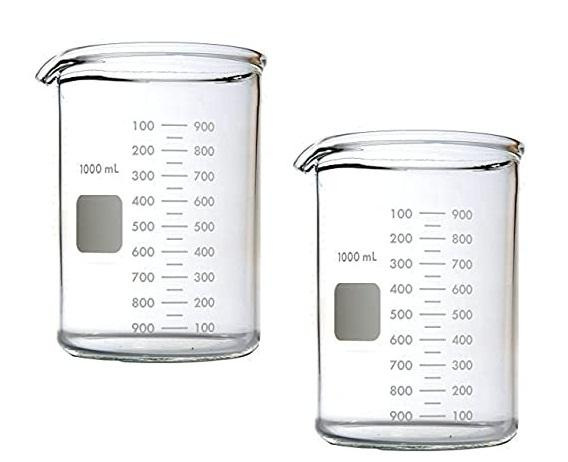Beaker: (33, 31, 269, 366), (290, 123, 524, 456)
